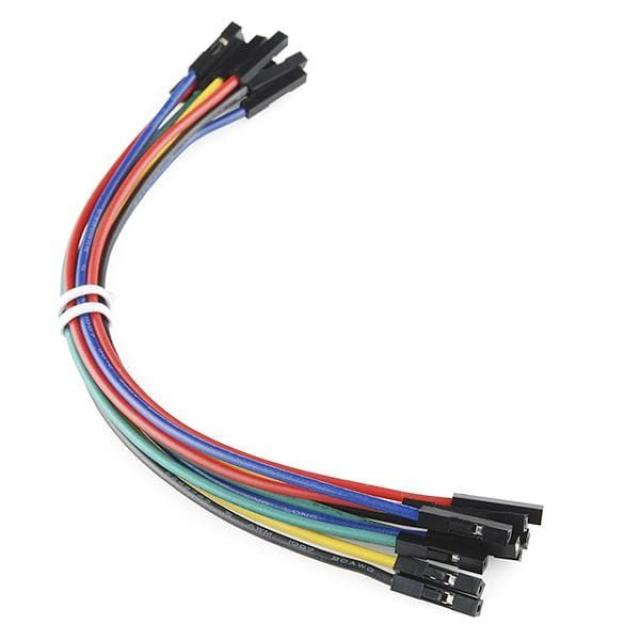Jumper Wires: (22, 2, 576, 640)
